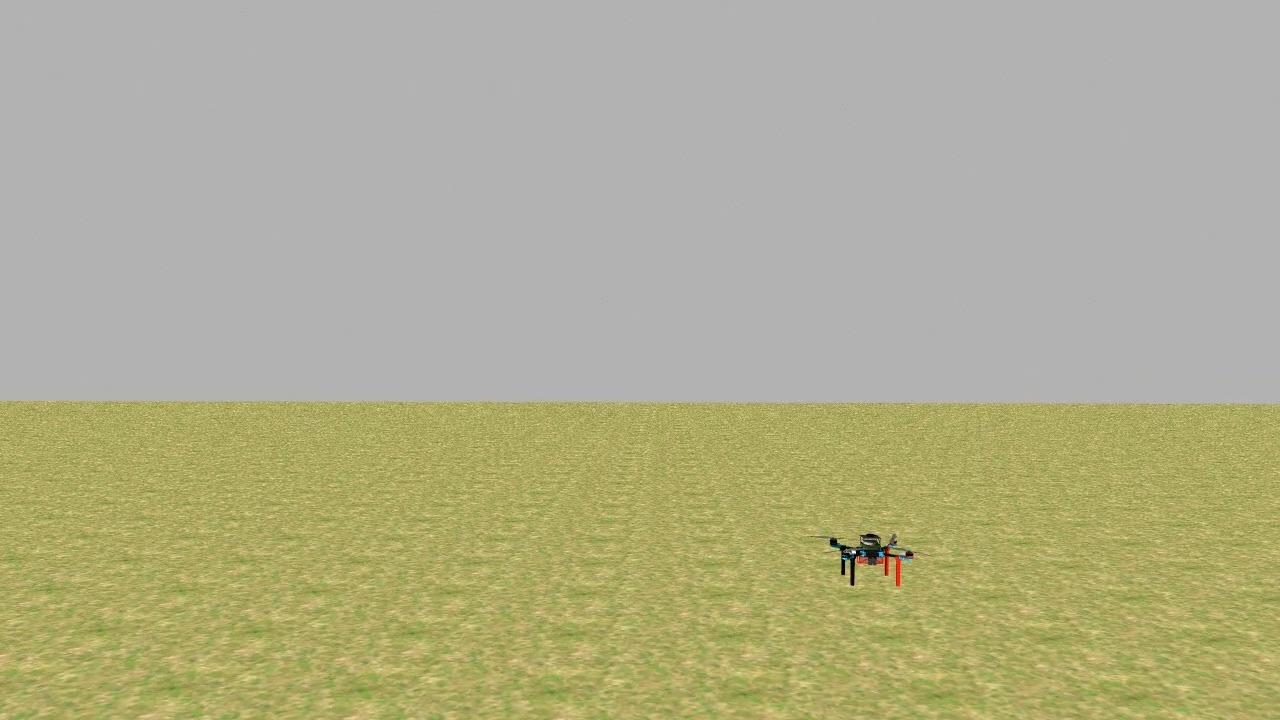UAV: (819, 521, 925, 590)
